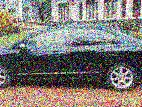car: (0, 25, 142, 90)
